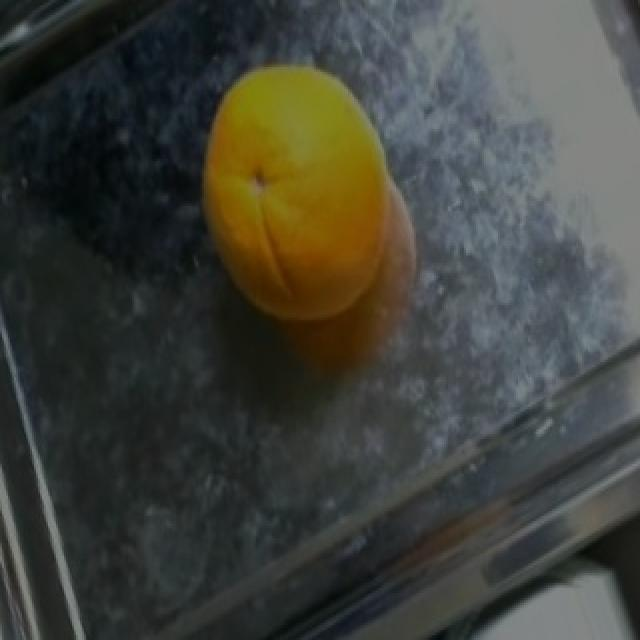Fruit: (174, 27, 444, 350)
